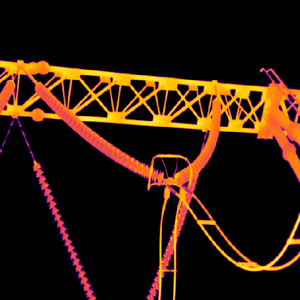insulator: (36, 79, 164, 182), (34, 157, 95, 300), (148, 170, 195, 300), (175, 97, 221, 184), (0, 77, 14, 113)
